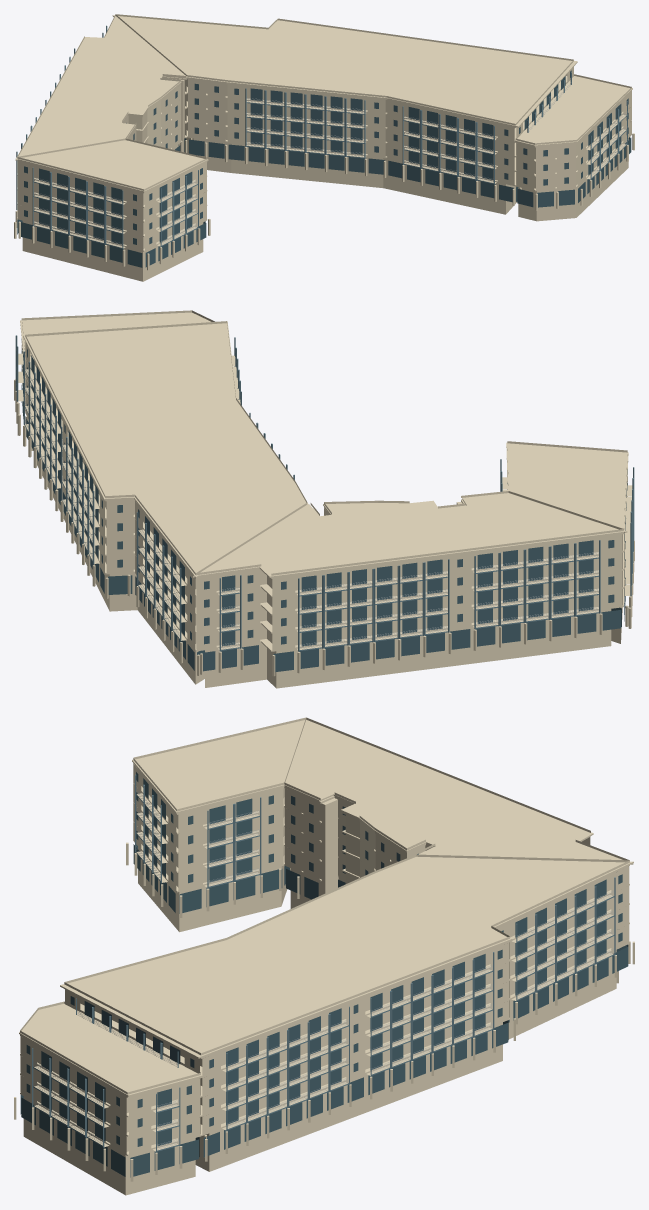
Rendered from st-angelo.glb.
3 renders of one model, top to bottom at view 1: azimuth 30°, elevation 25°; view 2: azimuth 150°, elevation 25°; view 3: azimuth 270°, elevation 25°, orthographic. The views are drawn at different scales.
Visible parts, largest first — view 1: Oestlicher Wohnfluegel, Westlicher Hafenfluegel, Lange Hafenfassade, Suedlicher Anschluss; view 2: Lange Hafenfassade, Oestlicher Wohnfluegel, Westlicher Hafenfluegel, Suedlicher Anschluss; view 3: Oestlicher Wohnfluegel, Lange Hafenfassade, Westlicher Hafenfluegel, Suedlicher Anschluss.
Boxes of the visible parts, box(x1,y1,x2,y2) form: Oestlicher Wohnfluegel: box(112, 14, 577, 214); Westlicher Hafenfluegel: box(14, 138, 210, 281); Lange Hafenfassade: box(15, 14, 192, 238); Suedlicher Anschluss: box(512, 74, 634, 221); Lange Hafenfassade: box(193, 491, 628, 688); Oestlicher Wohnfluegel: box(17, 321, 308, 684); Westlicher Hafenfluegel: box(500, 441, 634, 643); Suedlicher Anschluss: box(14, 310, 215, 450); Oestlicher Wohnfluegel: box(60, 855, 633, 1171); Lange Hafenfassade: box(279, 717, 634, 983); Westlicher Hafenfluegel: box(126, 717, 306, 932); Suedlicher Anschluss: box(14, 1001, 206, 1195).
Bounding box in the file's own units: 122 × 19.68 × 88.6.
